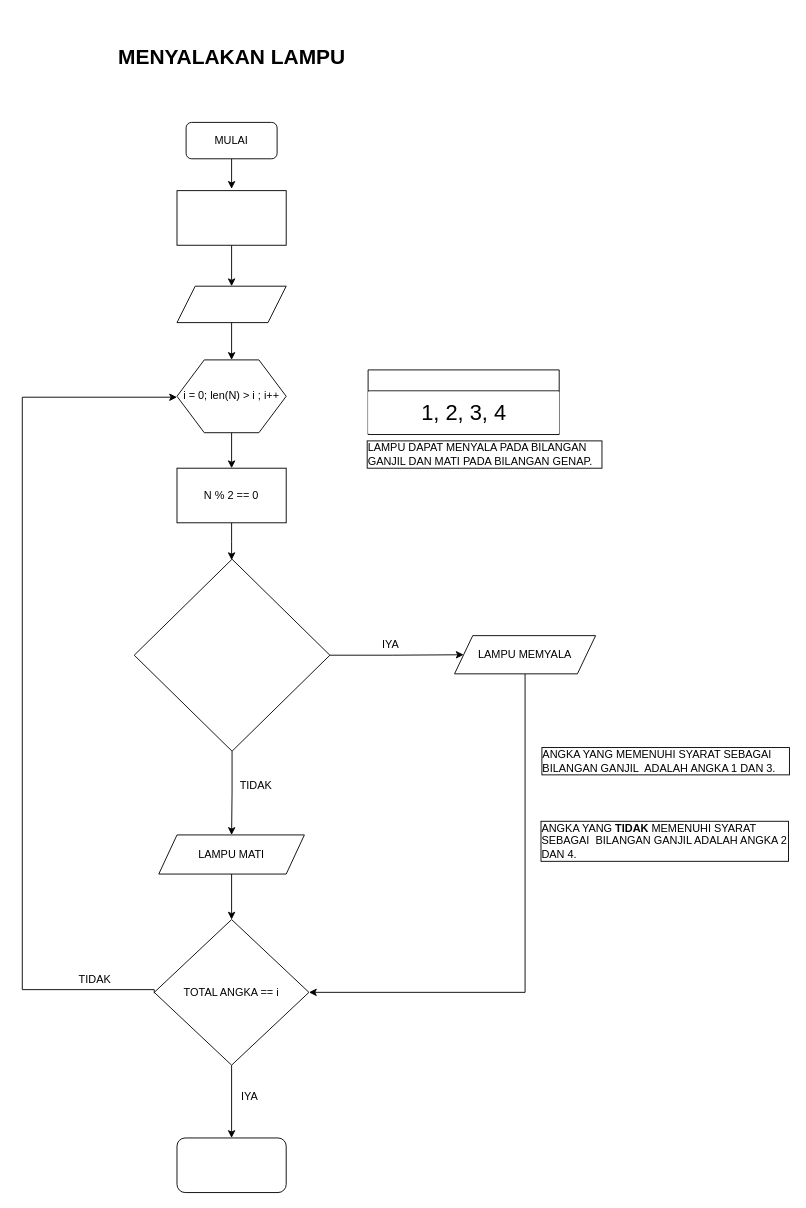
Some shapes in this 806 by 1208 pixel diagram are drawn without their labels. The shapes that lost their labels are listed below. From the top down, each one's box as (x1, y1, x2, y2) in pixels, then its label:
(176, 190, 286, 245): Total Bilangan = len(N)
(176, 285, 286, 323): INPUT (N)
(367, 369, 559, 435): TOTAL BILANGAN YANG ADA
(133, 558, 330, 751): MEMENUHI SYARAT SEBAGAI BILANGAN GANJIL
(176, 1137, 286, 1193): SELESAI
